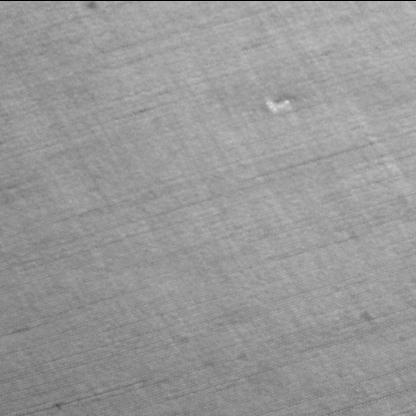hole: (265, 92, 297, 110)
